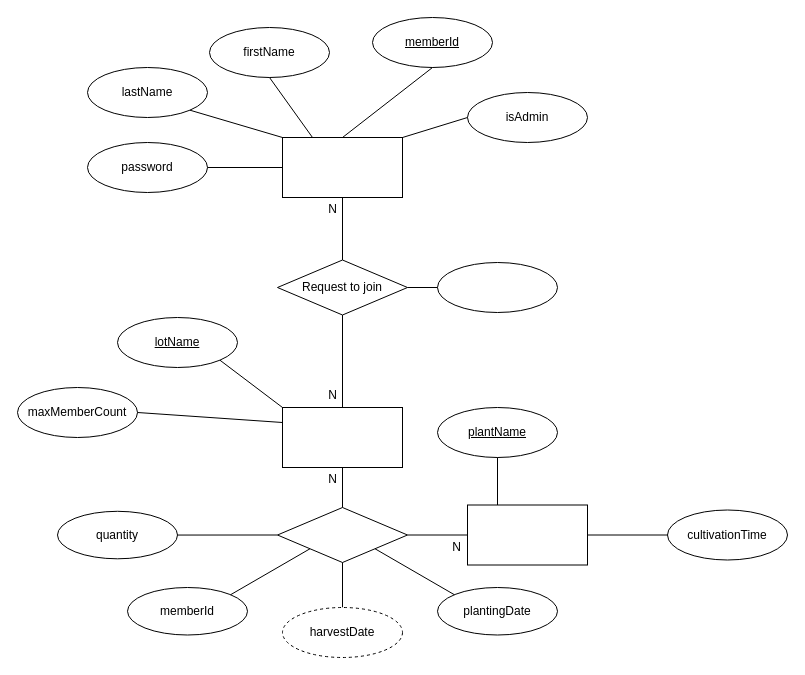
Image size: 805x675. Some labels were removed from this diagram. Each missing label, with the centre of its shape:
is sowed in: (x=342, y=534)
Lot: (x=342, y=437)
Member: (x=342, y=167)
Plant: (x=527, y=534)
requestStatus: (x=497, y=287)
